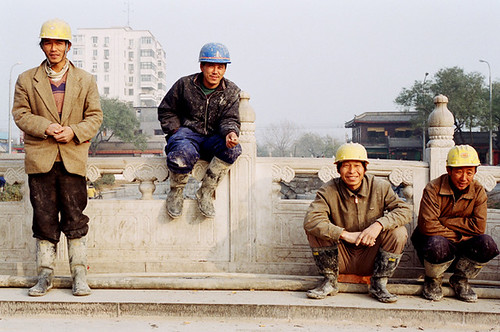person hardhat: (20, 20, 101, 301), (309, 142, 406, 306), (155, 43, 240, 224), (418, 142, 498, 304)
